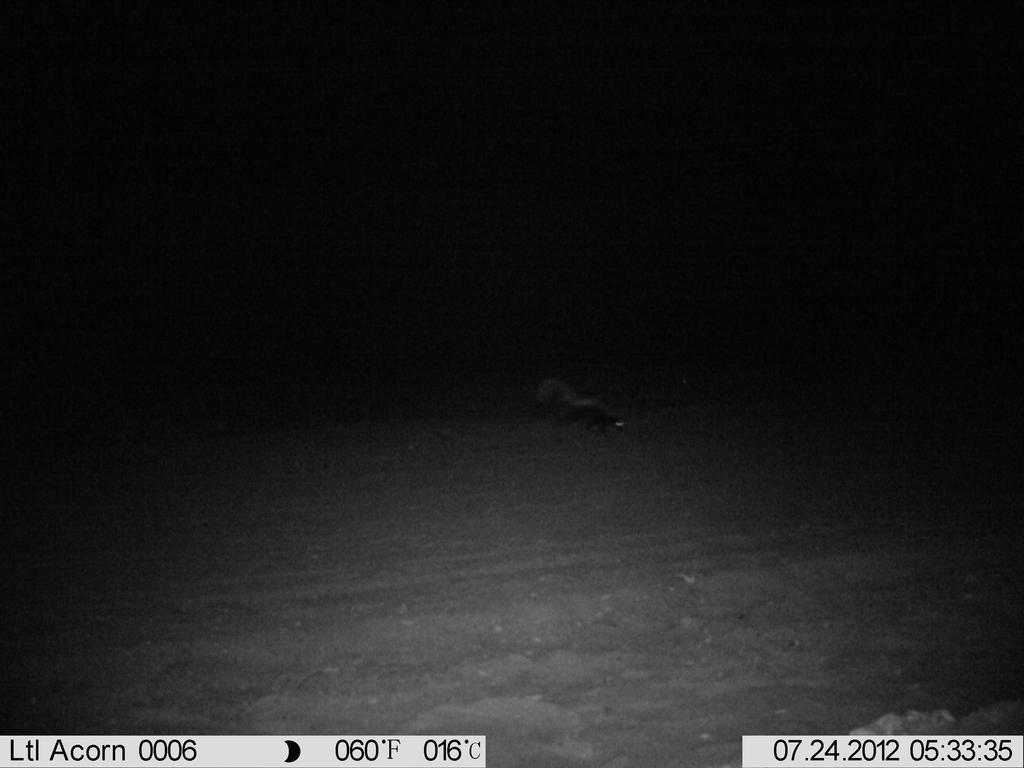skunk: (521, 360, 638, 445)
